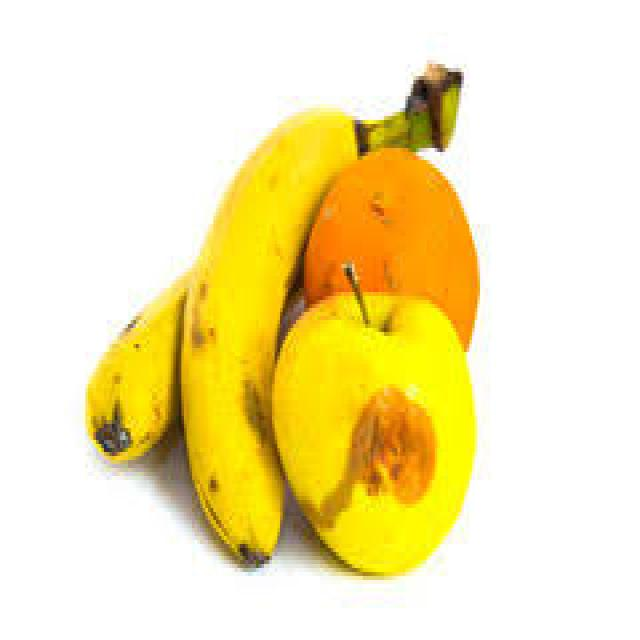food_waste: (85, 64, 477, 568)
